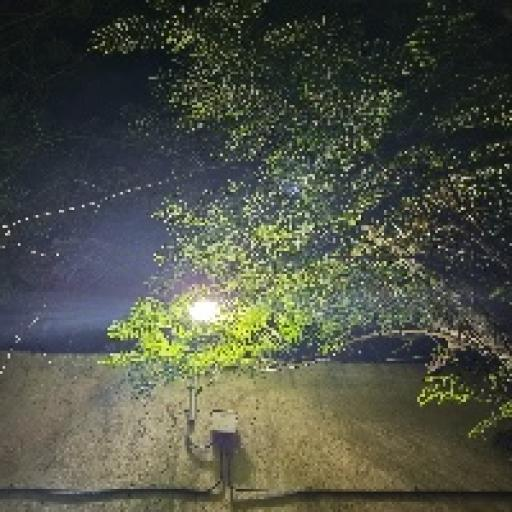Working: (181, 292, 229, 334)
